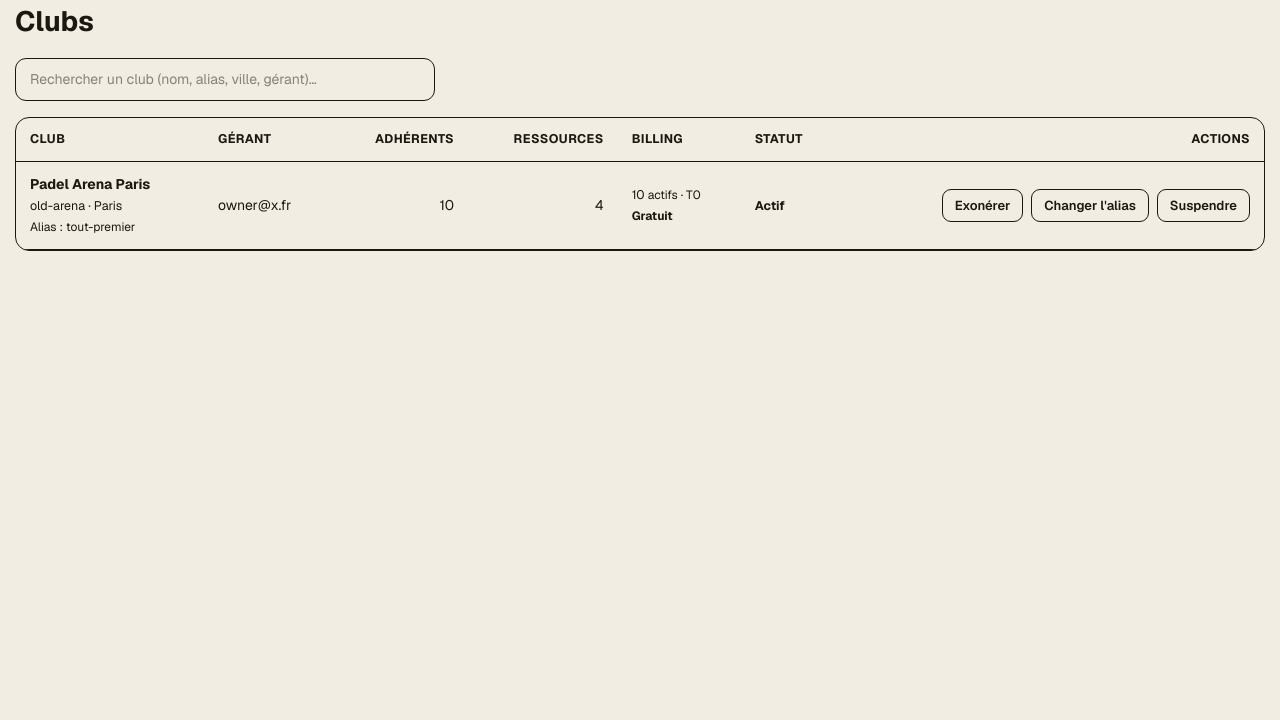
Test: affiche l'erreur française quand l'alias est pris
Click the button "Changer l'alias" at (1090, 205), box [1031,188,1149,222]
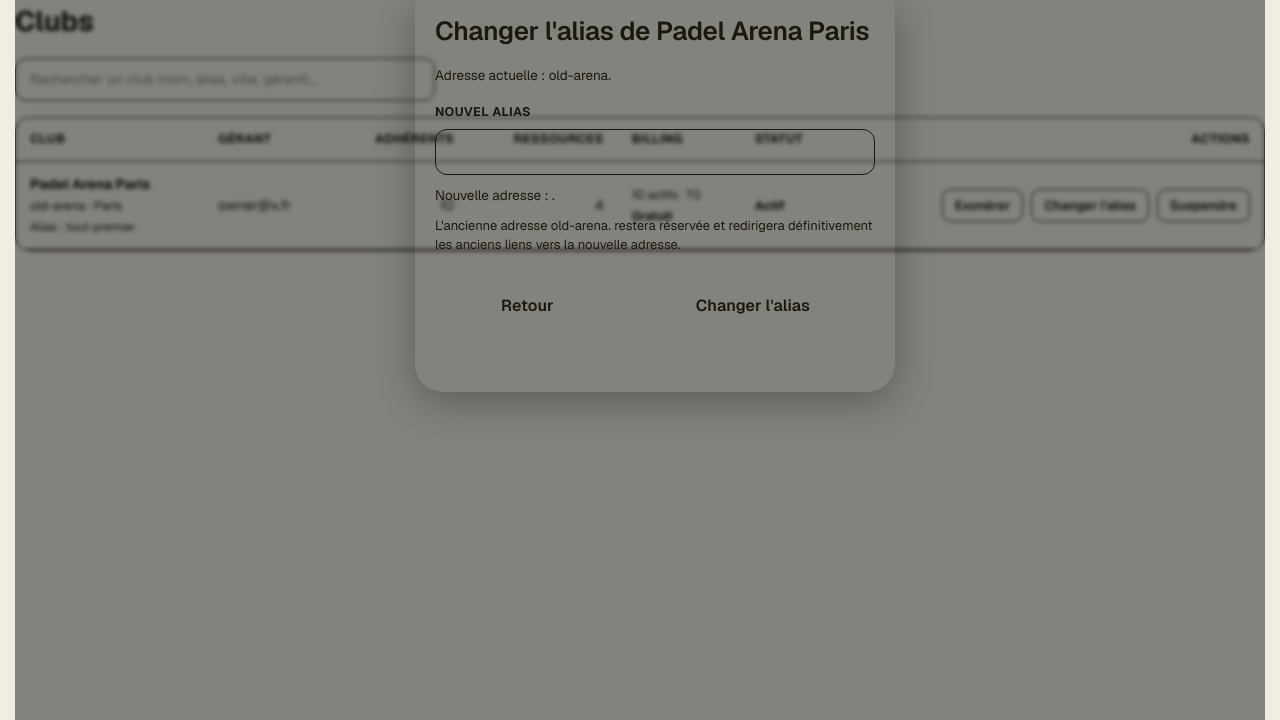
Click the button "Changer l'alias" at (753, 306), box [631,279,875,333]
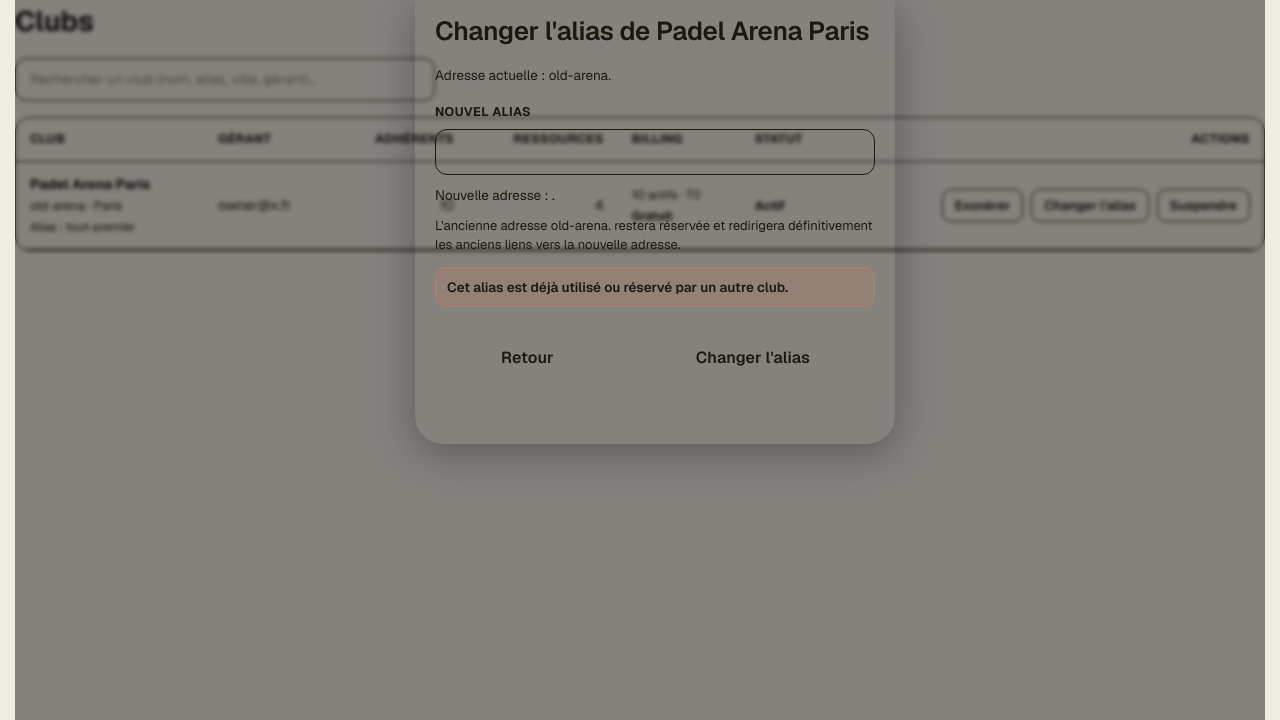
Expected: the text "Cet alias est déjà utilisé ou réservé par un autre club." is shown, [435,267,875,307]
